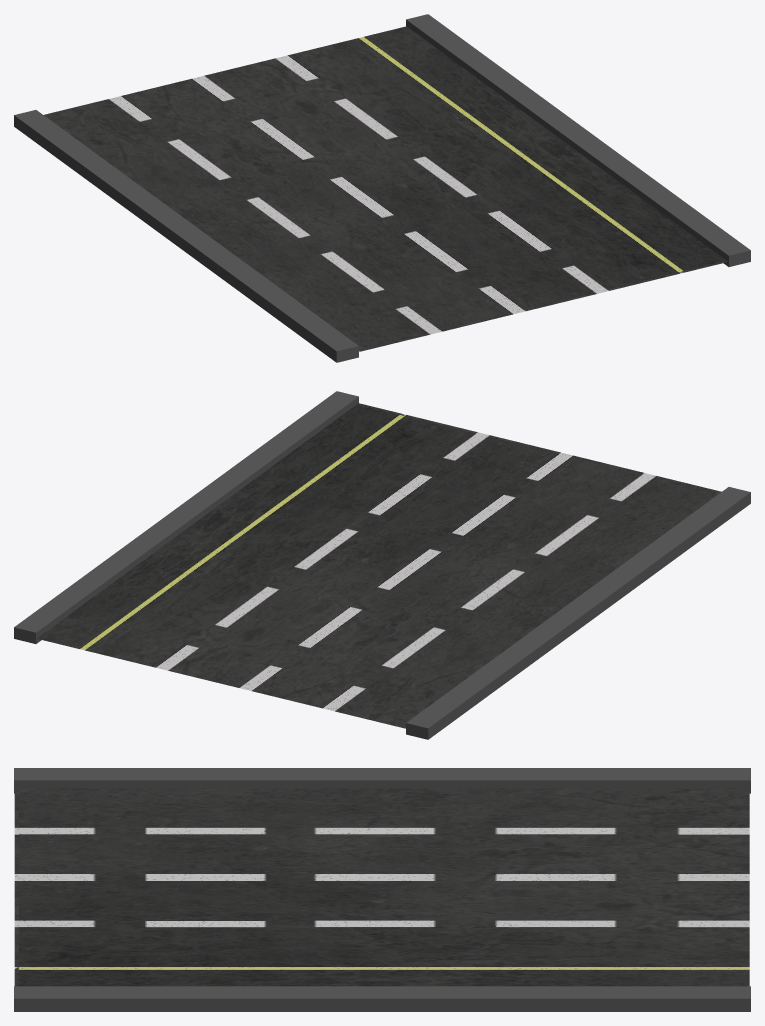
File: 4-Lane-Road.fbx
The picture shows the model from 3 angles, top to bottom: view 1: azimuth 30°, elevation 25°; view 2: azimuth 150°, elevation 25°; view 3: azimuth 270°, elevation 25°; orthographic projection. The views are drawn at different scales.
Visible parts, largest first — view 1: pPlane16, pCube42, pCube43; view 2: pPlane16, pCube42, pCube43; view 3: pPlane16, pCube43, pCube42.
Part boxes in pixels (<box>): pPlane16: <box>44,26,727,351</box>; pCube42: <box>14,110,358,362</box>; pCube43: <box>406,14,750,266</box>; pPlane16: <box>37,403,721,728</box>; pCube42: <box>406,487,750,739</box>; pCube43: <box>14,391,358,643</box>; pPlane16: <box>14,788,749,986</box>; pCube43: <box>14,986,750,1011</box>; pCube42: <box>14,768,750,793</box>.
Bounding box in the file's own units: 70.8 × 1.88 × 95.55.
2 materials, 1 textured.
